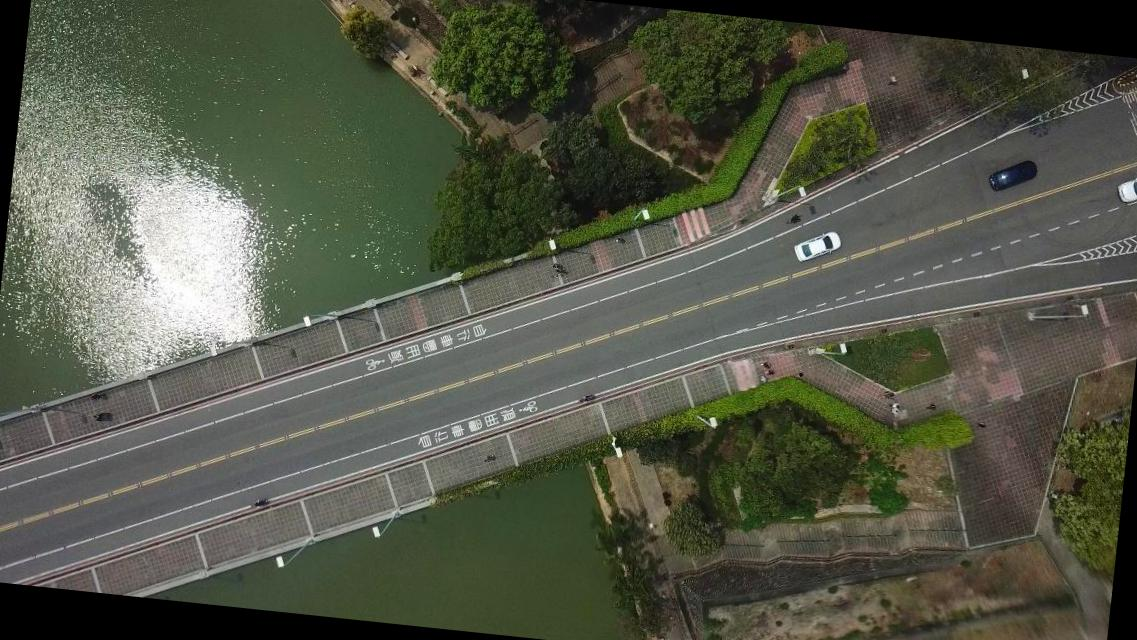vehicle: (987, 155, 1039, 195), (792, 227, 842, 266), (1116, 168, 1136, 205)
